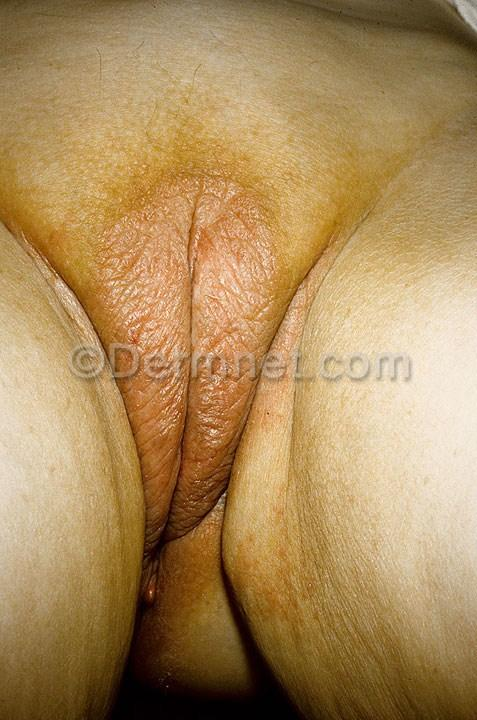Eczema: (131, 336, 189, 399), (90, 282, 145, 342), (214, 244, 267, 304), (136, 229, 181, 294), (193, 192, 242, 243), (197, 391, 245, 443), (84, 236, 137, 283), (129, 186, 180, 229), (206, 348, 249, 399), (144, 392, 188, 441), (234, 292, 276, 343), (143, 300, 188, 347), (199, 304, 243, 352), (184, 484, 220, 529), (186, 438, 227, 476), (129, 442, 170, 480), (112, 349, 150, 386)
